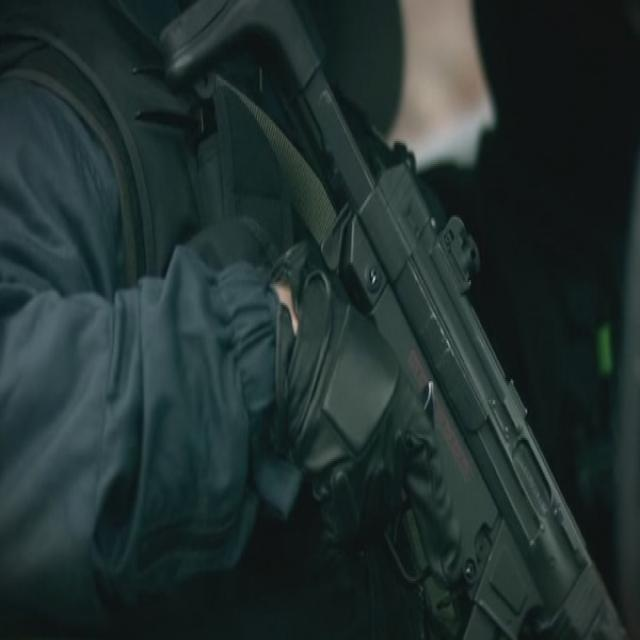rifle: (157, 1, 639, 640)
